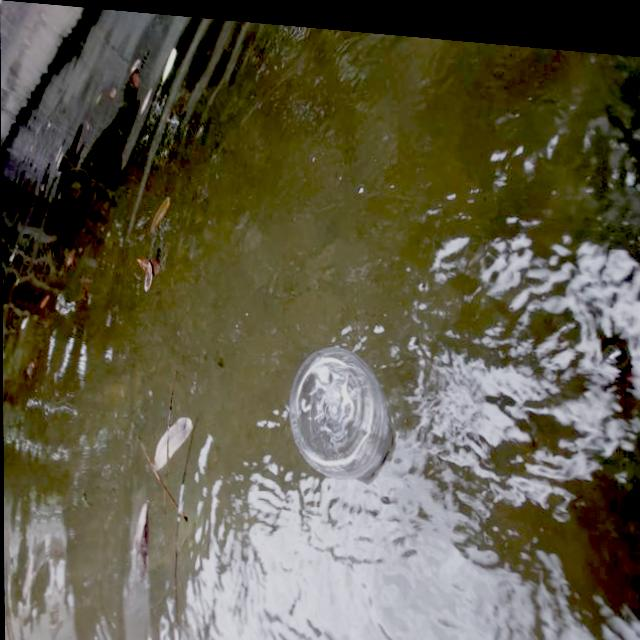leaf: (118, 390, 207, 496), (128, 195, 185, 318)
waterbottle: (253, 324, 419, 503)
